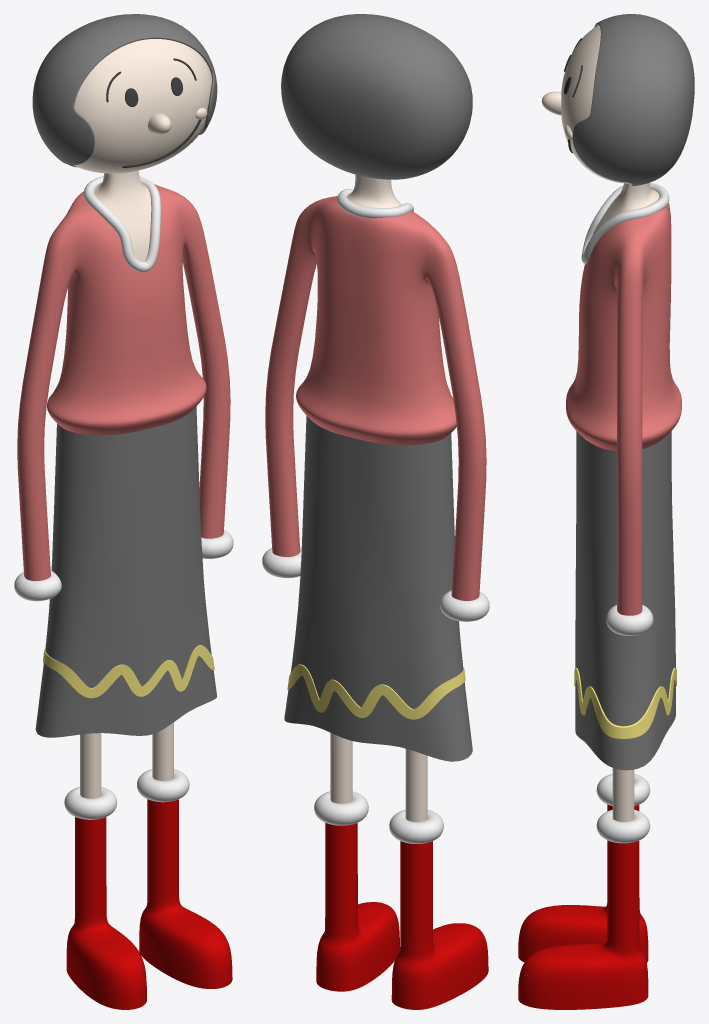
3 renders of one model, left to right at view 1: azimuth 30°, elevation 25°; view 2: azimuth 150°, elevation 25°; view 3: azimuth 270°, elevation 25°, orthographic. The views are drawn at different scales.
Parts seen in each view (by area): view 1: 021_olive; view 2: 021_olive; view 3: 021_olive.
Boxes of the visible parts, x1,y1,x2,y2 form: 021_olive: [14, 14, 233, 1009]; 021_olive: [262, 14, 489, 1009]; 021_olive: [518, 14, 694, 1009].
Bounding box in the file's own units: 0.0464 × 0.1943 × 0.0327.
